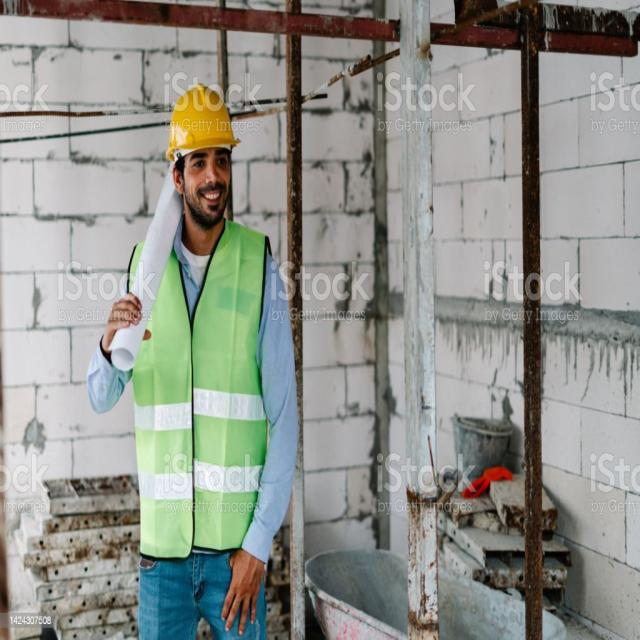helmet: (154, 77, 248, 154)
vest: (116, 202, 277, 554)
